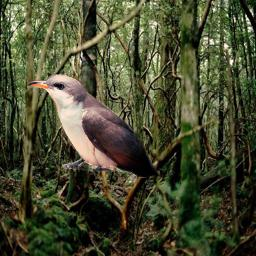Cuckoo: (27, 74, 161, 178)
